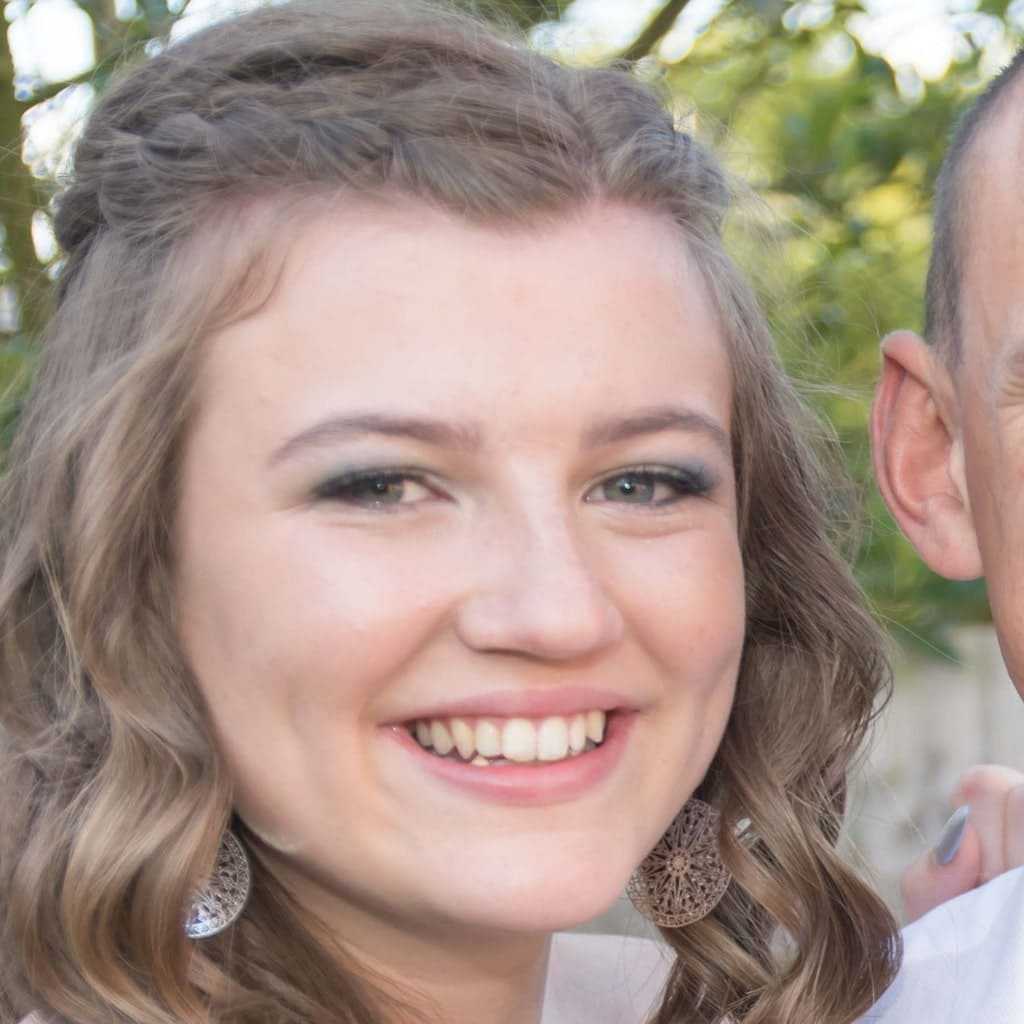without_mask: (248, 227, 729, 883)
